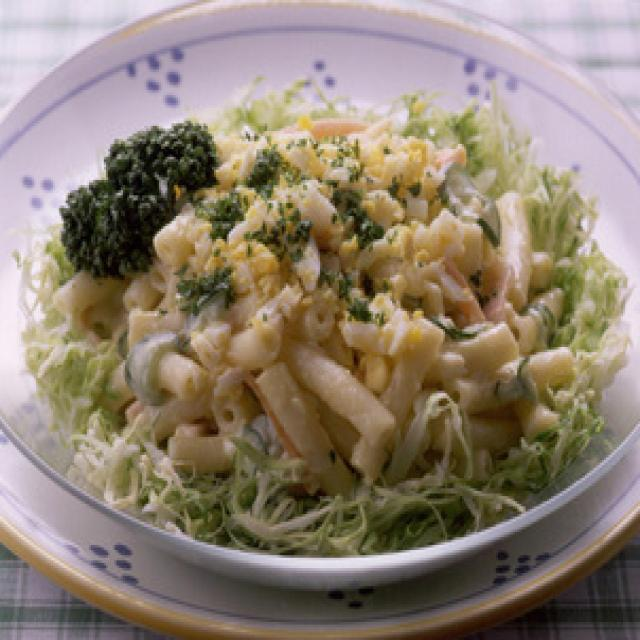蔬菜料理: (0, 0, 640, 589)
